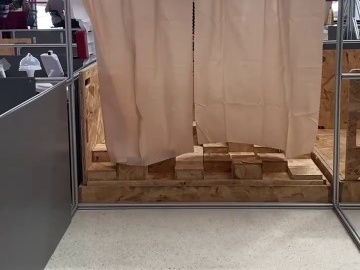curtain: (76, 0, 328, 159)
